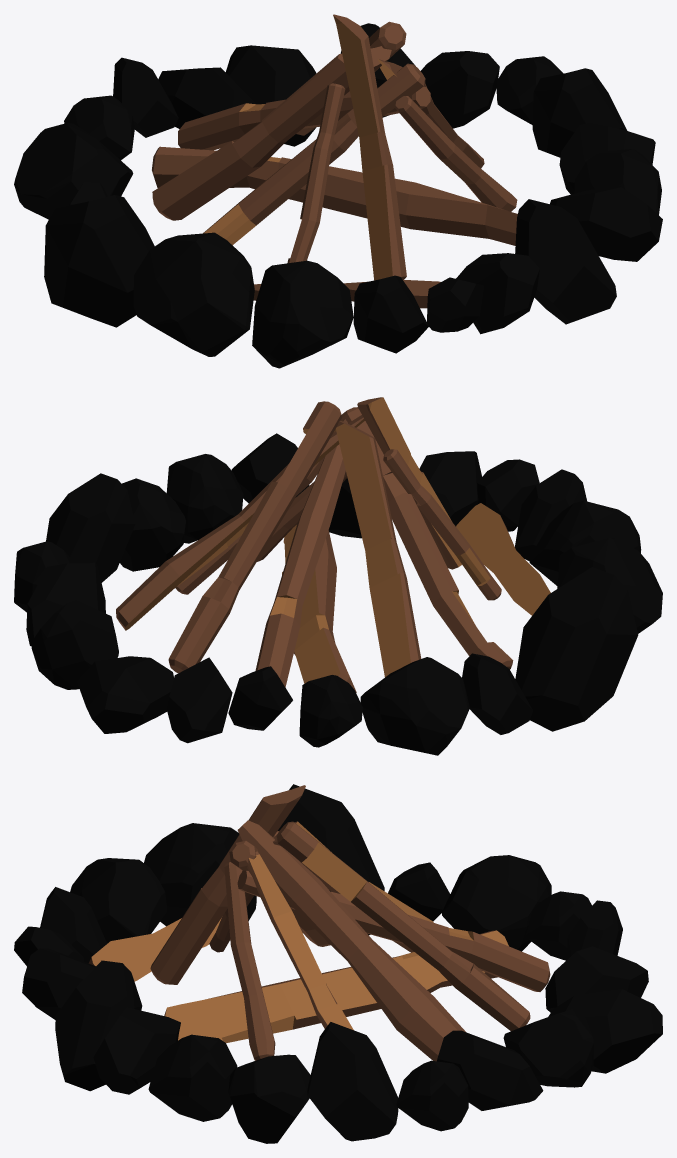
The model's file is Campfire.fbx.
3 views of the same model, one above another, from view 1: azimuth 30°, elevation 25°; view 2: azimuth 150°, elevation 25°; view 3: azimuth 270°, elevation 25° (orthographic). The views are drawn at different scales.
Visible parts, largest first — view 1: Campfire; view 2: Campfire; view 3: Campfire.
Part boxes in pixels (bbox=[...]): Campfire: bbox=[14, 14, 662, 368]; Campfire: bbox=[14, 397, 662, 755]; Campfire: bbox=[14, 784, 662, 1143].
Bounding box in the file's own units: 0.6169 × 0.2738 × 0.6293.
